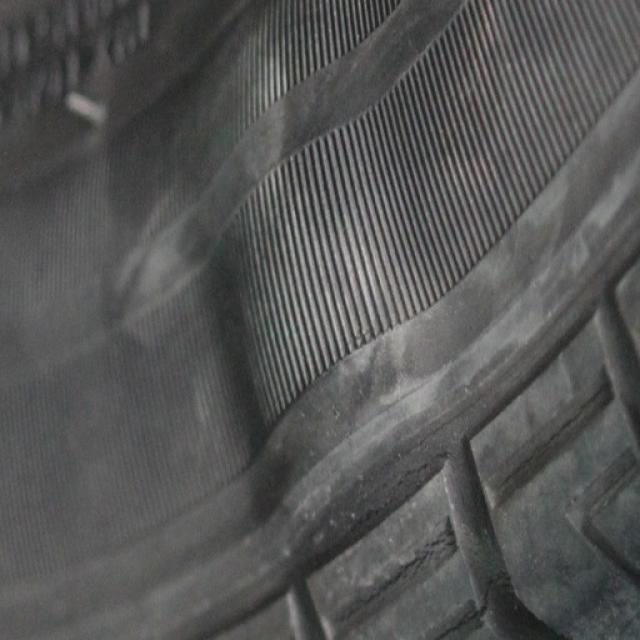Bulge: (180, 89, 468, 539)
